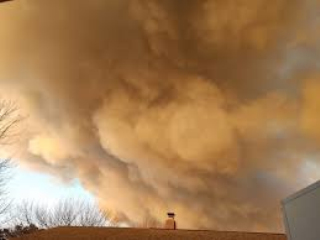smoke: (20, 80, 274, 230)
